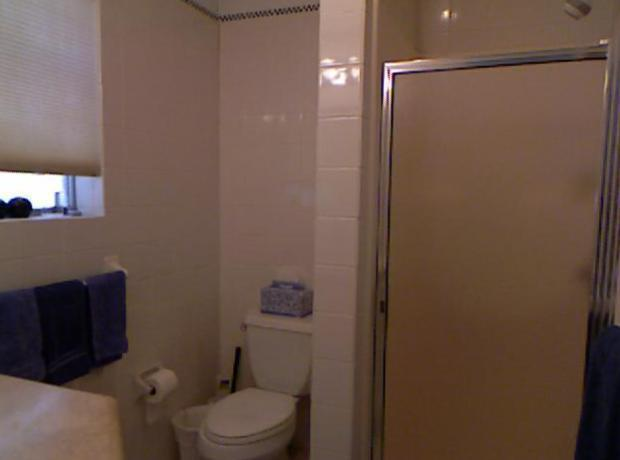Bote de Basura: (174, 402, 234, 459)
Ducha: (366, 31, 616, 454)
Sanitario: (202, 293, 328, 455)
